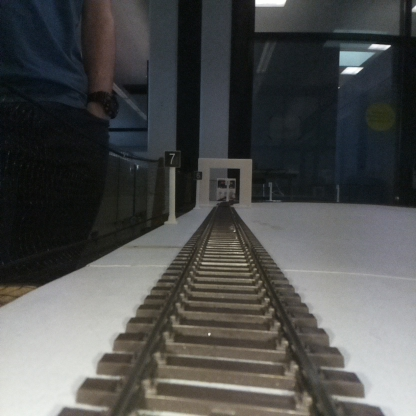black-info-6: (194, 170, 202, 209)
black-info-7: (165, 151, 180, 224)
